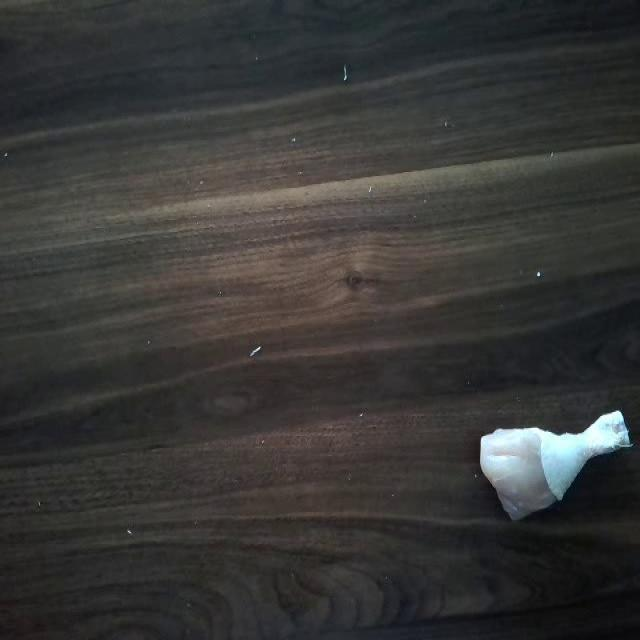leg: (473, 408, 636, 526)
